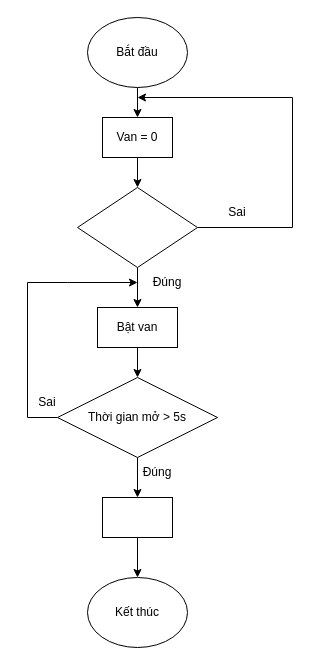
Image size: 318x665. Some labels were removed from this diagram. The shapes that lost their labels are listed below. From the top down, each one's centre as x and y in pixels, then its label:
(137,227): Đúng giờ bật ?
(137,517): Tắt đèn
